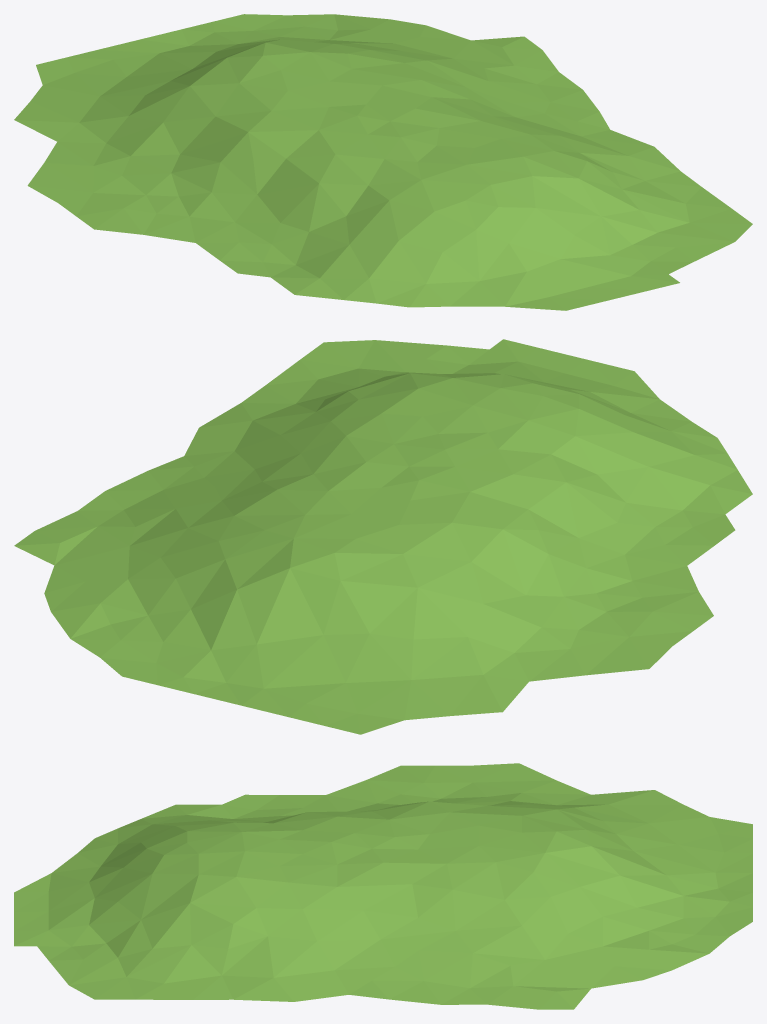
Rendered from MT_Mountain_M_a_14.fbx.
3 renders of one model, top to bottom at view 1: azimuth 30°, elevation 25°; view 2: azimuth 150°, elevation 25°; view 3: azimuth 270°, elevation 25°, orthographic. The views are drawn at different scales.
Visible parts, largest first — view 1: MT_Mountain_M_a_14; view 2: MT_Mountain_M_a_14; view 3: MT_Mountain_M_a_14.
Boxes of the visible parts, x1,y1,x2,y2 form: MT_Mountain_M_a_14: (14,14,752,310); MT_Mountain_M_a_14: (14,339,752,734); MT_Mountain_M_a_14: (14,763,752,1009).
Size of the model in its own units: 3945 by 390 by 5000.
